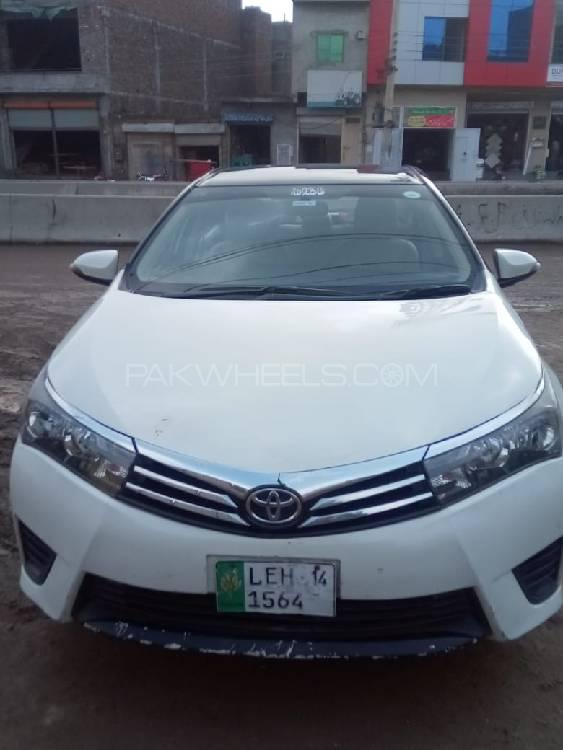plate: (209, 556, 343, 620)
